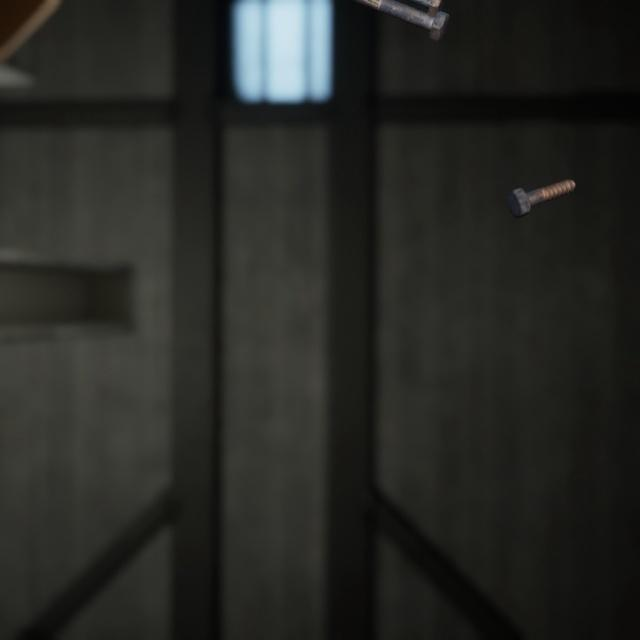bolt: (502, 160, 580, 207), (362, 0, 454, 38)
